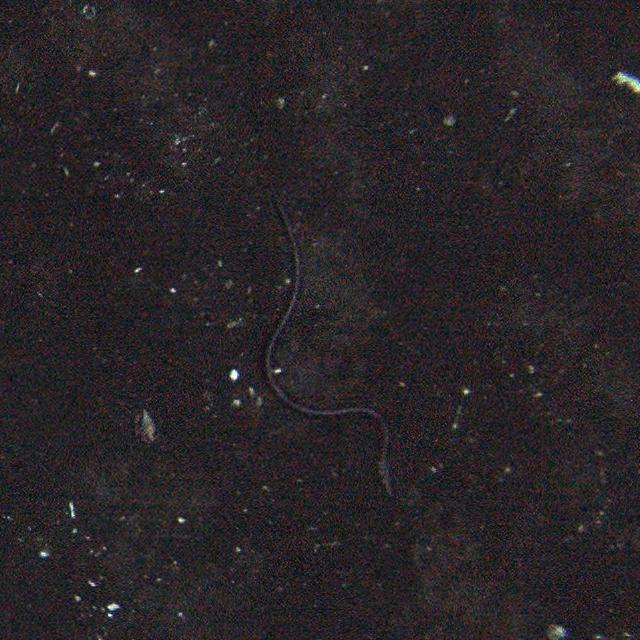eel: (264, 194, 399, 497)
